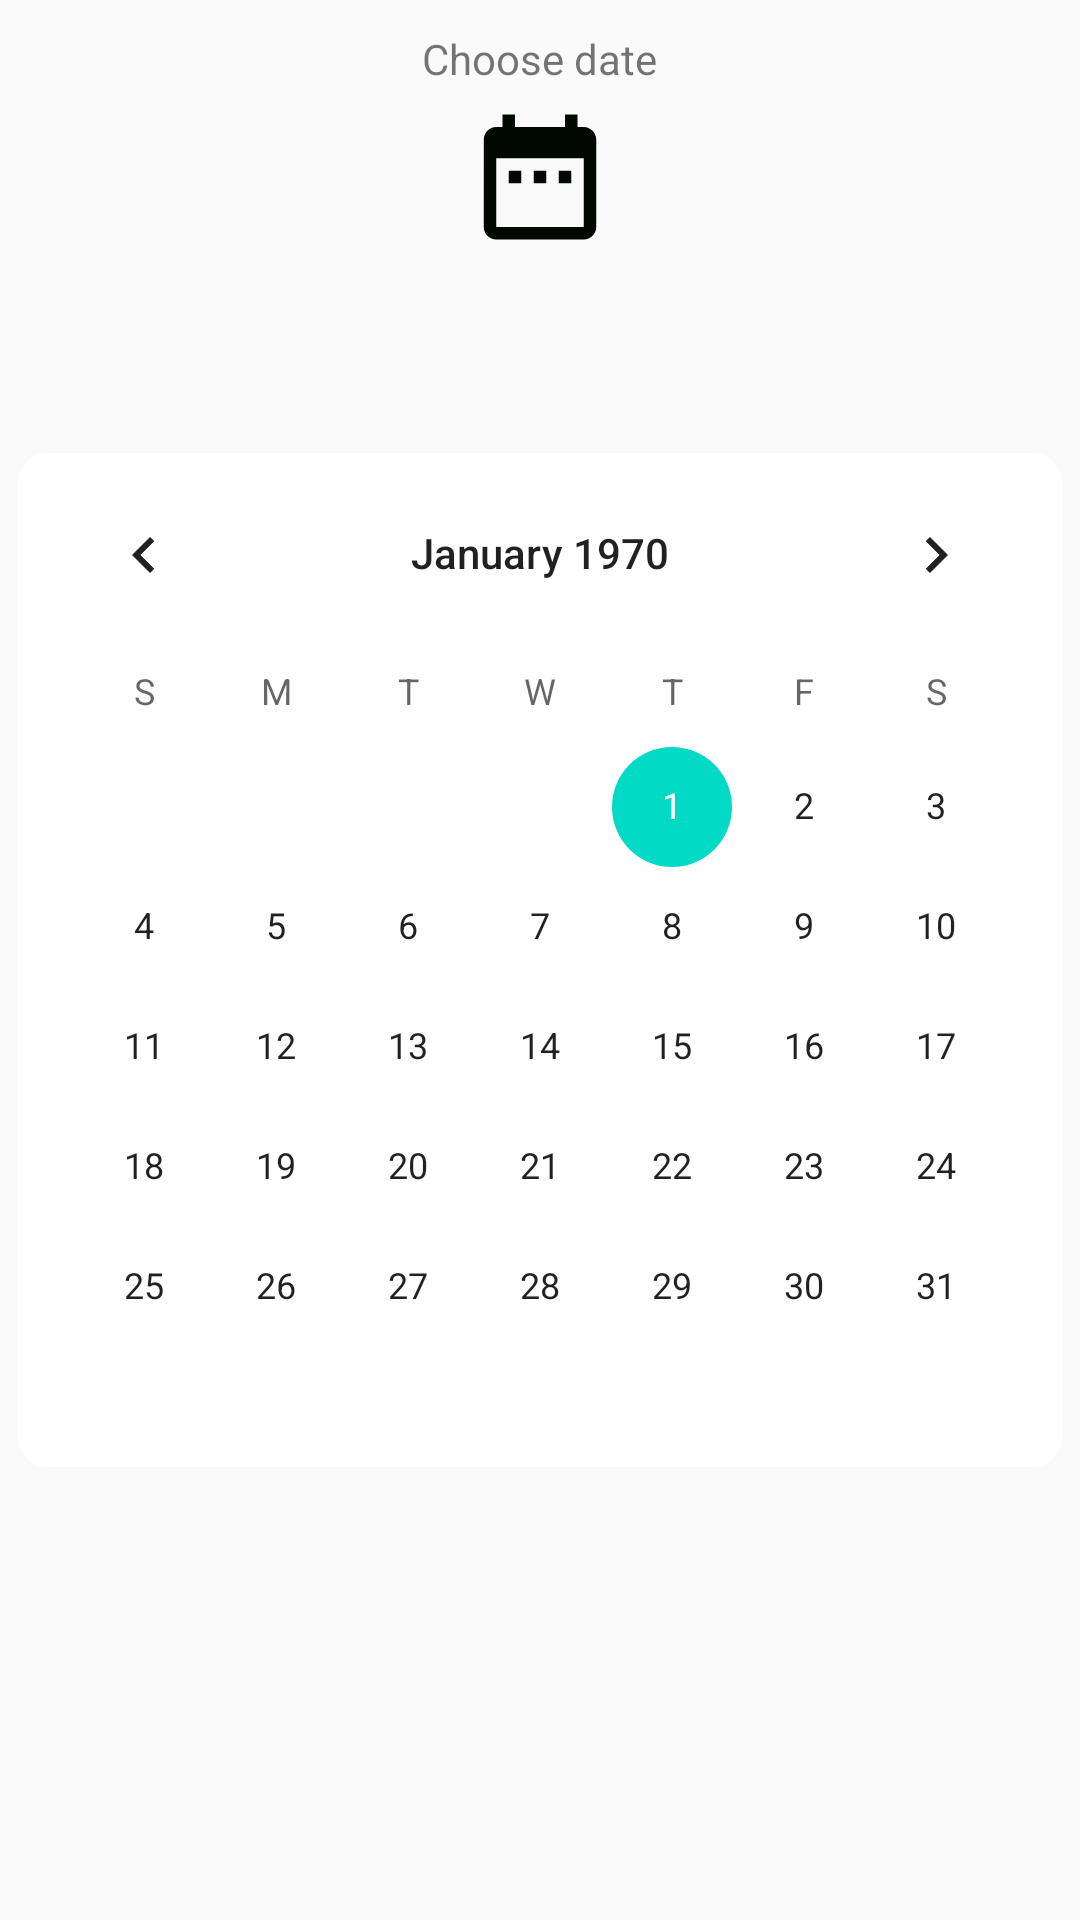

Icon click points for this 1080px x 1920px phone screenshot, format point (x, y):
calender: point (540, 177)
